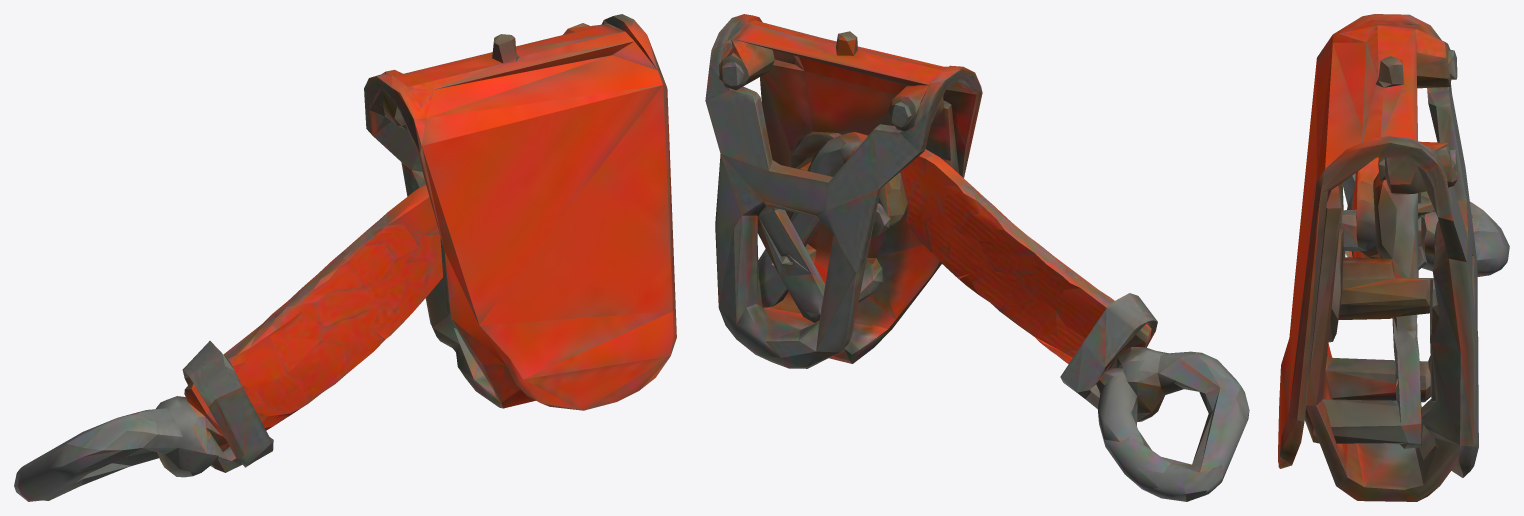
The model's file is cliquet.glb.
3 renders of one model, left to right at view 1: azimuth 30°, elevation 25°; view 2: azimuth 150°, elevation 25°; view 3: azimuth 270°, elevation 25°, orthographic. The views are drawn at different scales.
Size of the model in its own units: 1.9 by 1.21 by 0.5996.
Materials: 1 (1 with a texture image).
